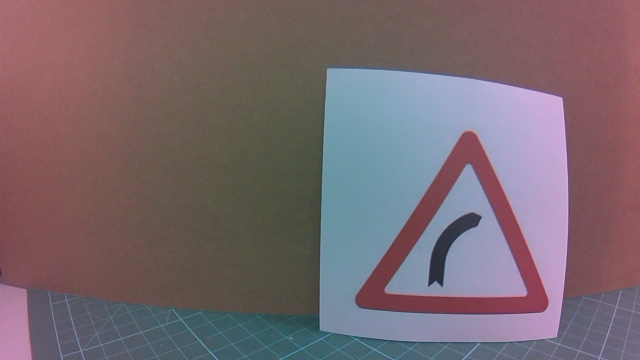right: (362, 149, 540, 325)
